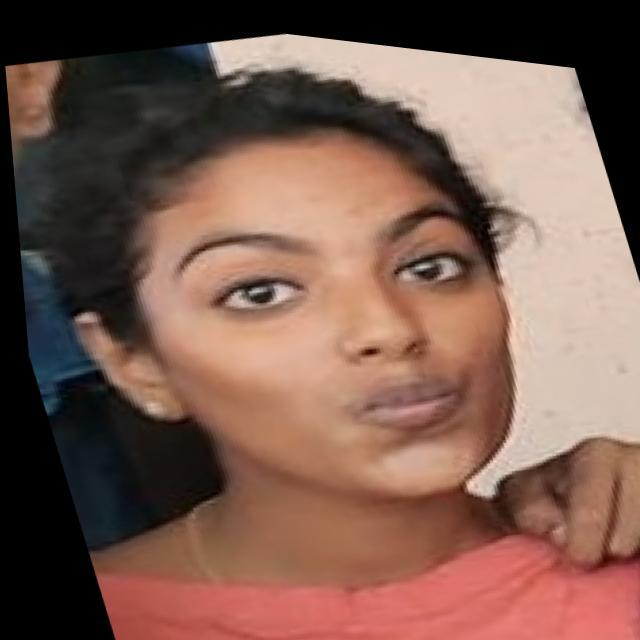Nonhelmet: (22, 58, 535, 503)
